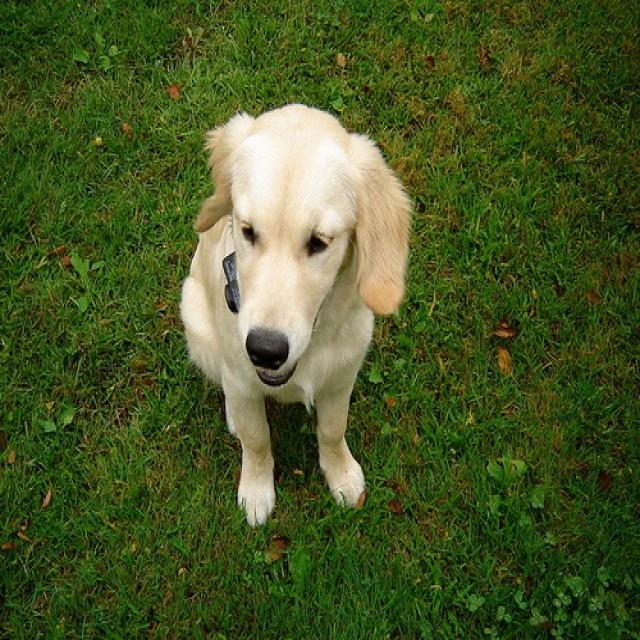dog: (182, 102, 414, 524)
